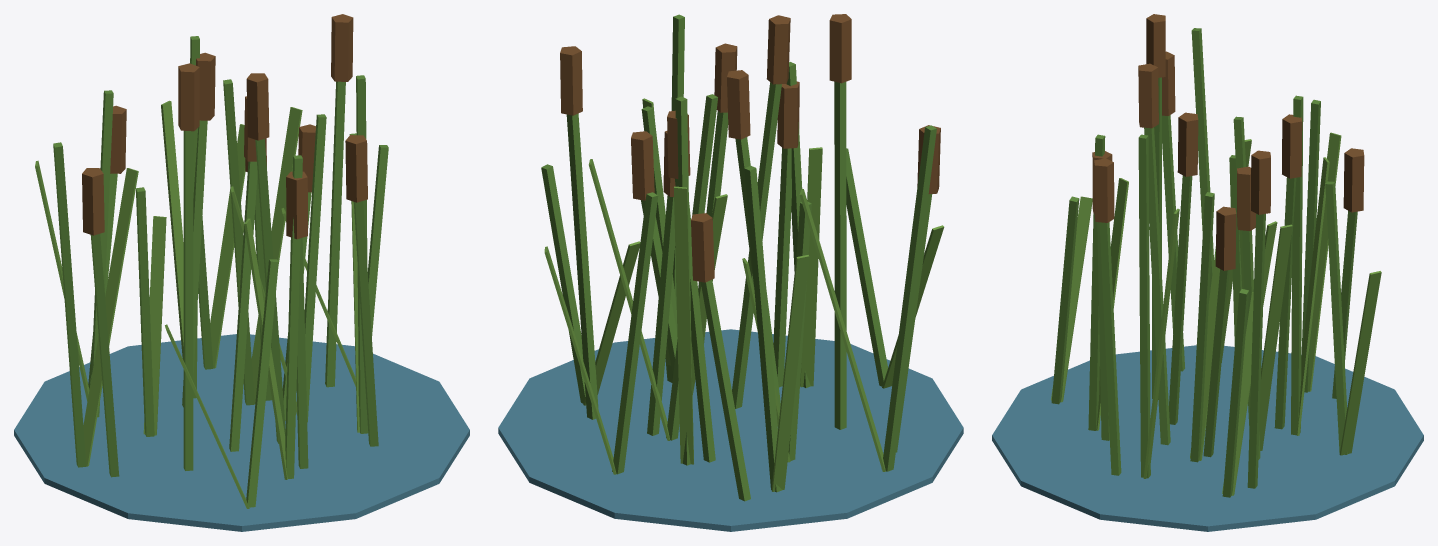
File: trzcina.glb
The picture shows the model from 3 angles, left to right: view 1: azimuth 30°, elevation 25°; view 2: azimuth 150°, elevation 25°; view 3: azimuth 270°, elevation 25°; orthographic projection. The views are drawn at different scales.
Visible parts, largest first — view 1: trzcina; view 2: trzcina; view 3: trzcina.
Boxes of the visible parts, x1=… form: trzcina: x1=14, y1=14, x2=469, y2=531; trzcina: x1=498, y1=14, x2=963, y2=531; trzcina: x1=992, y1=14, x2=1423, y2=531.
Bounding box in the file's own units: 1.4 × 1.38 × 1.4.
